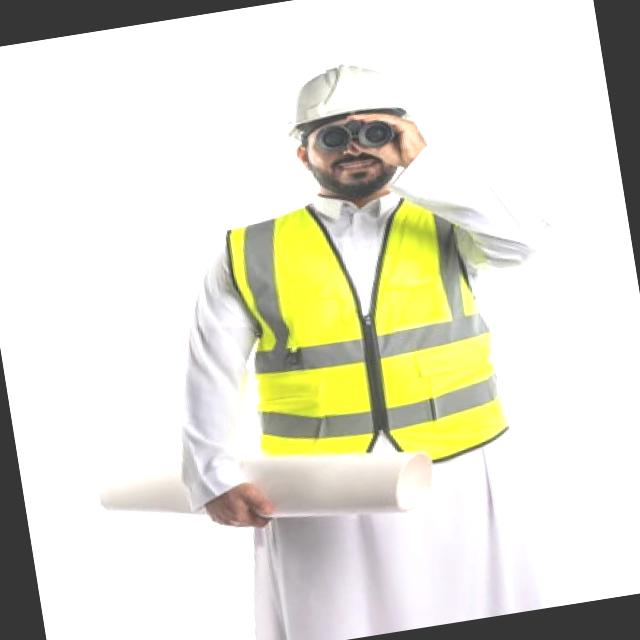helmet: (266, 54, 416, 135)
vest: (214, 176, 520, 492)
